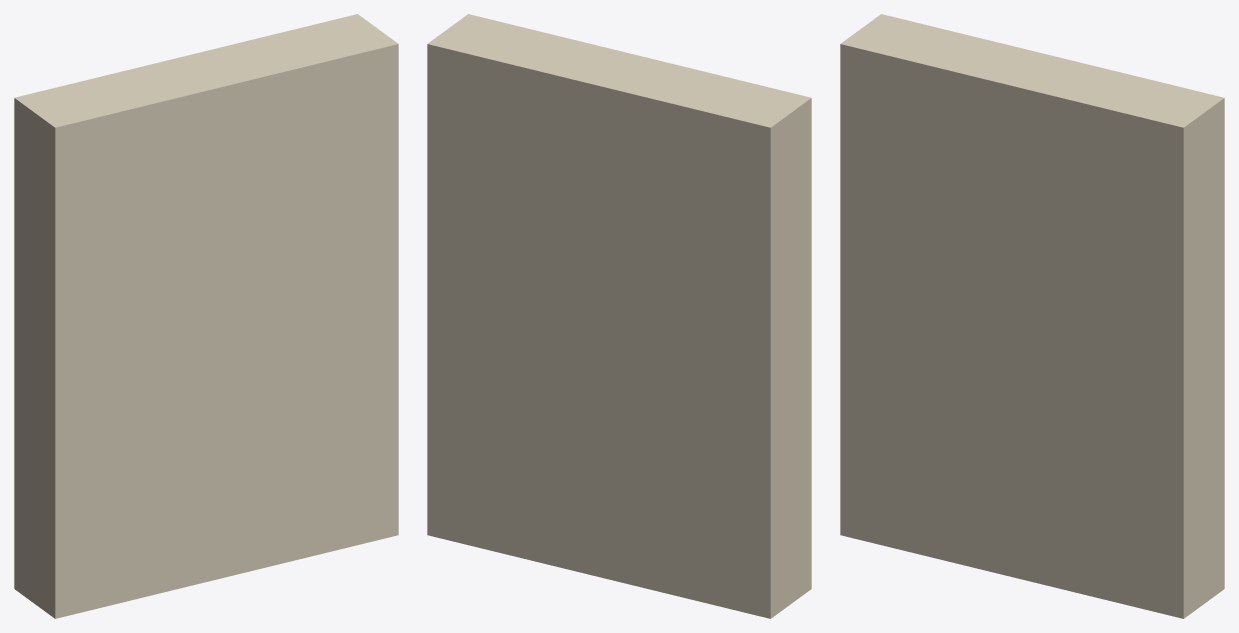
3 views of the same model, side by side, from view 1: azimuth 30°, elevation 25°; view 2: azimuth 150°, elevation 25°; view 3: azimuth 330°, elevation 25° (orthographic).
Parts seen in each view (by area): view 1: B-GF-WINDOW-004-SILL; view 2: B-GF-WINDOW-004-SILL; view 3: B-GF-WINDOW-004-SILL.
Boxes of the visible parts, box(x1,y1,x2,y2) form: B-GF-WINDOW-004-SILL: box(14, 14, 398, 618); B-GF-WINDOW-004-SILL: box(427, 14, 811, 618); B-GF-WINDOW-004-SILL: box(840, 14, 1224, 618).
Size of the model in its own units: 0.6 by 0.82 by 0.124.
